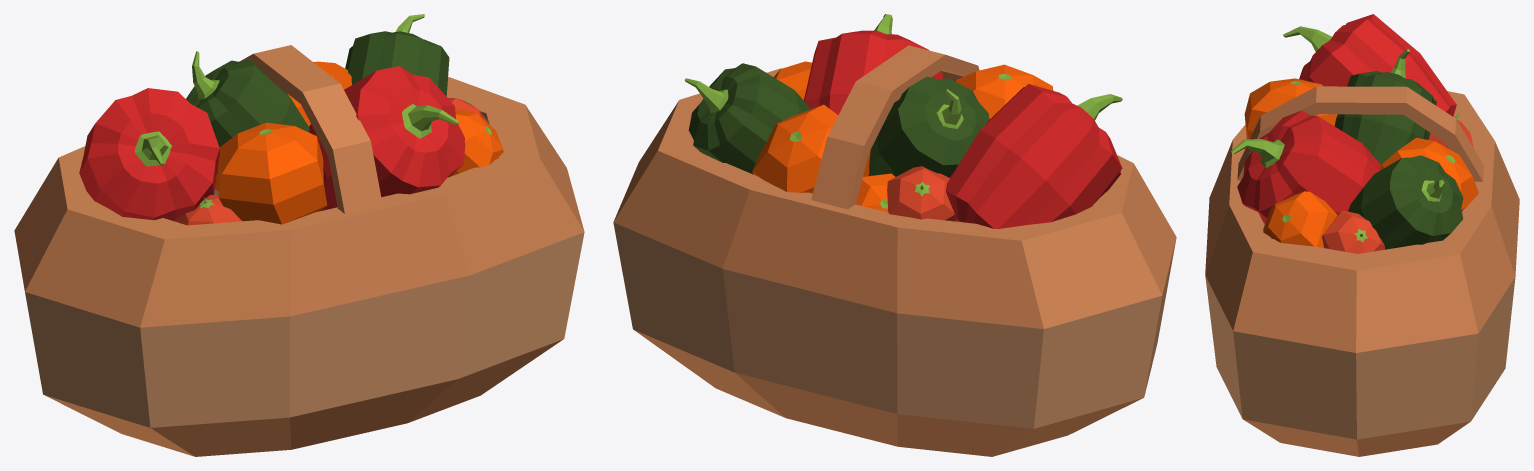
File: Basket_Full.fbx
The picture shows the model from 3 angles, left to right: view 1: azimuth 30°, elevation 25°; view 2: azimuth 150°, elevation 25°; view 3: azimuth 270°, elevation 25°; orthographic projection. The views are drawn at different scales.
Visible parts, largest first — view 1: Basket_Full; view 2: Basket_Full; view 3: Basket_Full.
Boxes of the visible parts, x1,y1,x2,y2 form: Basket_Full: [14, 14, 584, 456]; Basket_Full: [613, 14, 1176, 456]; Basket_Full: [1205, 14, 1519, 456].
Size of the model in its own units: 53.75 by 32.94 by 31.01.
